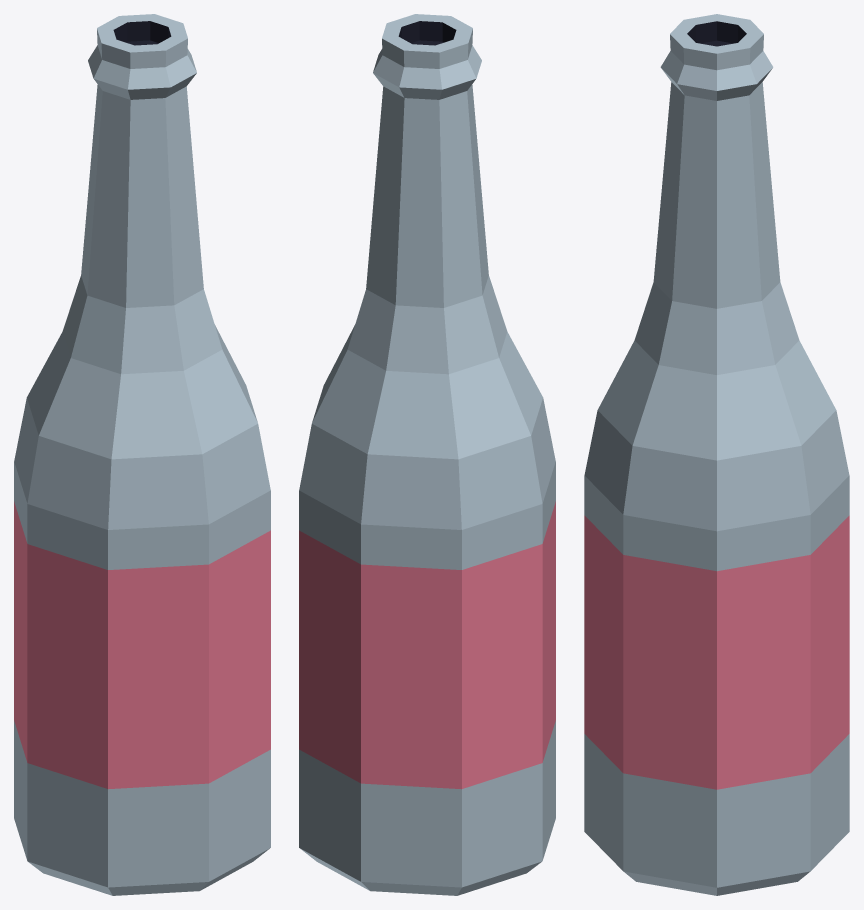
File: FizzyDrink.OldPeaches.o.fbx
3 renders of one model, left to right at view 1: azimuth 30°, elevation 25°; view 2: azimuth 150°, elevation 25°; view 3: azimuth 270°, elevation 25°, orthographic.
Parts seen in each view (by area): view 1: FizzyDrink.OldPeaches.o; view 2: FizzyDrink.OldPeaches.o; view 3: FizzyDrink.OldPeaches.o.
Part boxes in pixels (x1,y1,x2,y2): FizzyDrink.OldPeaches.o: (14,14,270,895); FizzyDrink.OldPeaches.o: (299,14,555,895); FizzyDrink.OldPeaches.o: (584,14,849,895).
Size of the model in its own units: 38.32 by 130 by 38.32.
